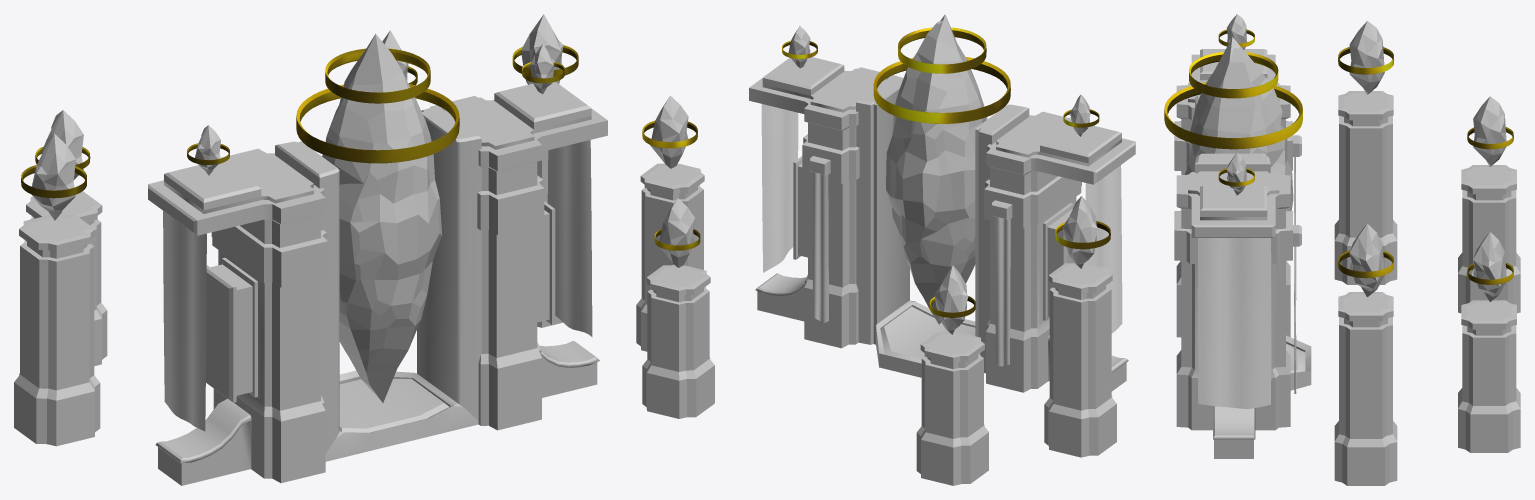
Rendered from core.gltf.
3 views of the same model, side by side, from view 1: azimuth 30°, elevation 25°; view 2: azimuth 150°, elevation 25°; view 3: azimuth 270°, elevation 25° (orthographic). The views are drawn at different scales.
Visible parts, largest first — view 1: Portal, Core, CoreTower02, Portal.Banners, MinorCrystals, GondelRings.Core, GoldenRings.Small; view 2: Portal, CoreTower02, Core, Portal.Banners, MinorCrystals, GondelRings.Core, GoldenRings.Small; view 3: CoreTower02, Portal, Portal.Banners, MinorCrystals, Core, GondelRings.Core, GoldenRings.Small.
Boxes of the visible parts, <box> form: Portal: <box>148,82,607,485</box>; Core: <box>322,33,442,402</box>; CoreTower02: <box>14,150,562,446</box>; Portal.Banners: <box>163,140,592,431</box>; MinorCrystals: <box>31,14,563,220</box>; GondelRings.Core: <box>296,48,459,163</box>; GoldenRings.Small: <box>21,45,578,198</box>; Portal: <box>749,57,1135,392</box>; CoreTower02: <box>636,163,1116,485</box>; Core: <box>886,14,987,324</box>; Portal.Banners: <box>761,104,1122,366</box>; MinorCrystals: <box>650,26,1097,334</box>; GondelRings.Core: <box>873,27,1010,123</box>; GoldenRings.Small: <box>642,40,1110,317</box>; CoreTower02: <box>1334,91,1520,485</box>; Portal: <box>1174,49,1311,458</box>; Portal.Banners: <box>1197,157,1296,408</box>; MinorCrystals: <box>1227,14,1506,301</box>; Core: <box>1184,37,1293,210</box>; GondelRings.Core: <box>1164,52,1302,149</box>; GoldenRings.Small: <box>1218,29,1513,284</box>.
Bounding box in the file's own units: 11.37 × 7.8 × 7.52.
